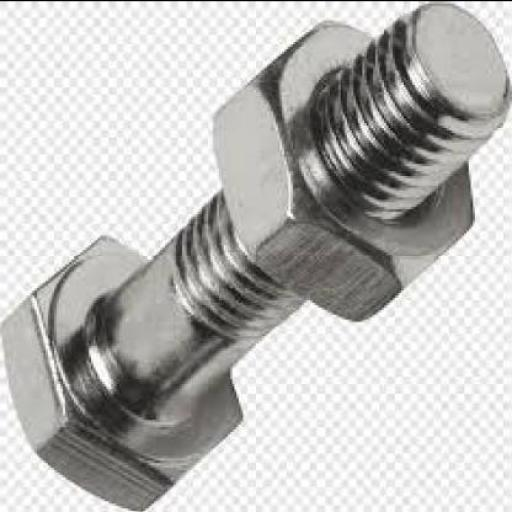metal: (0, 1, 510, 511), (210, 19, 473, 323)
